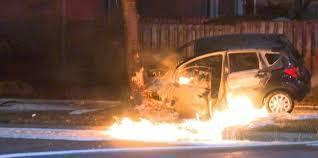fire: (82, 41, 283, 142)
